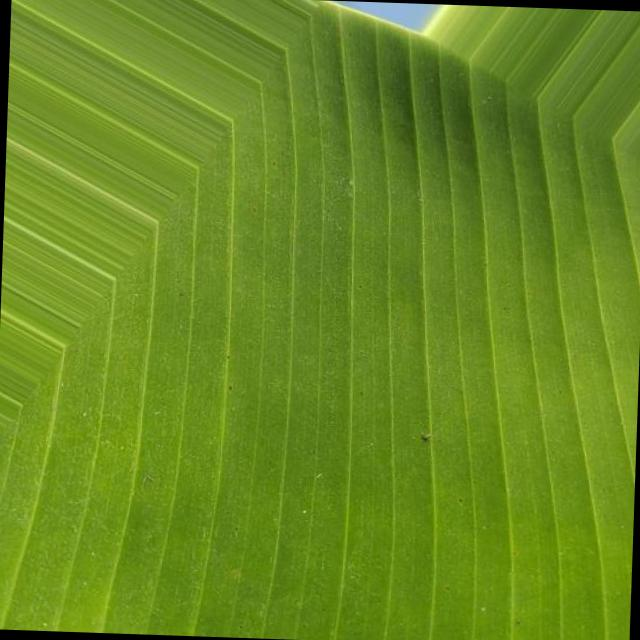Banana_Healthy: (219, 151, 581, 508)
